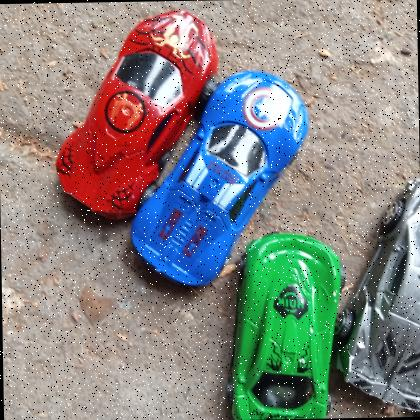Car: (131, 70, 308, 286), (55, 9, 218, 219), (229, 231, 344, 420)
